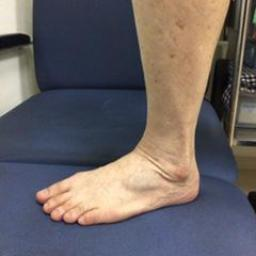Lateral View -Left Foot-: (32, 121, 212, 227)
